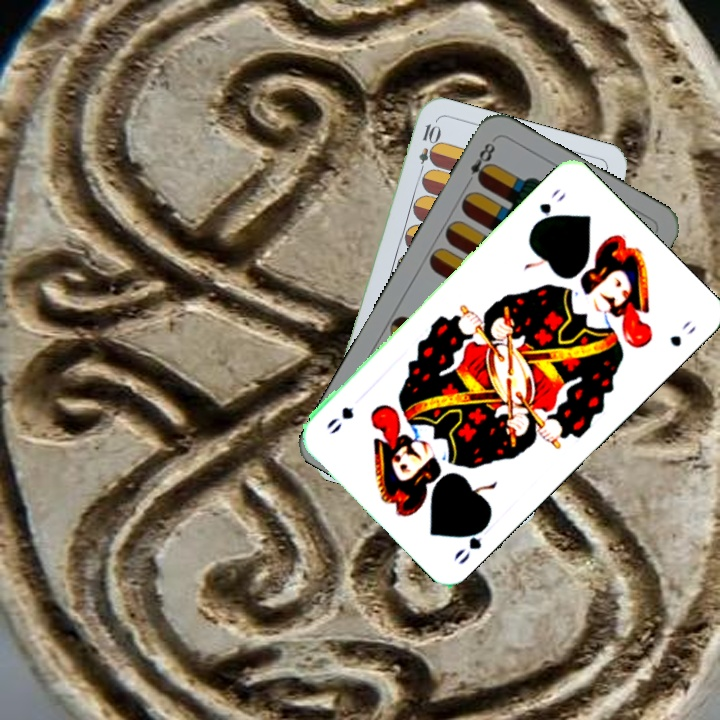E10: (414, 120, 441, 179)
E8: (461, 138, 498, 189)
GO: (449, 516, 493, 568), (529, 184, 569, 231)
